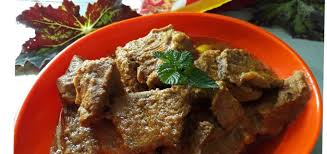rendang: (37, 26, 320, 154)
